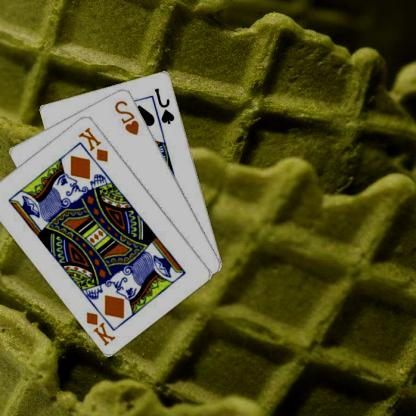2H: (114, 97, 142, 137)
JS: (154, 85, 178, 125)
KD: (78, 125, 112, 163), (85, 309, 119, 347)
